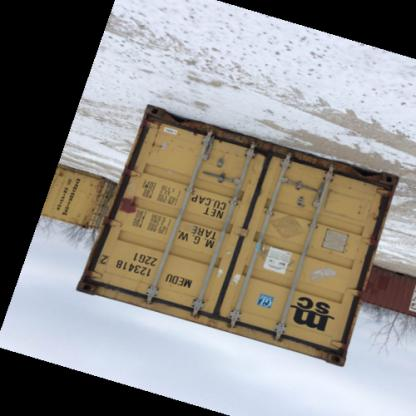Damage: (308, 324, 358, 368), (325, 173, 395, 195), (72, 264, 111, 300), (134, 106, 166, 146), (112, 193, 146, 225)
